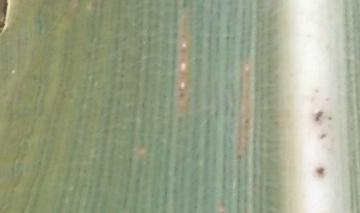tarspot: (314, 109, 323, 122), (315, 166, 325, 176), (318, 131, 326, 142), (234, 153, 243, 161), (243, 117, 250, 125), (180, 1, 186, 10), (326, 114, 332, 122)
